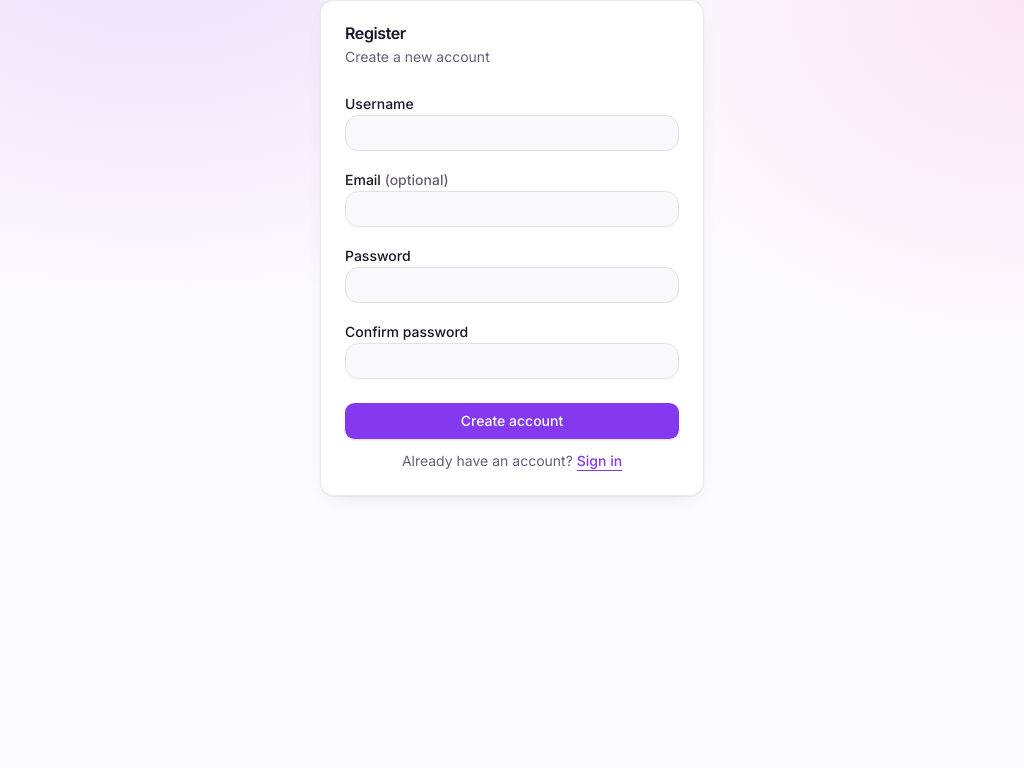
it: RegisterPage — the password rule › shows the server's plain text for a taken username
In the field labelled "Username": (512, 133) [345,115,679,151], type "alice"
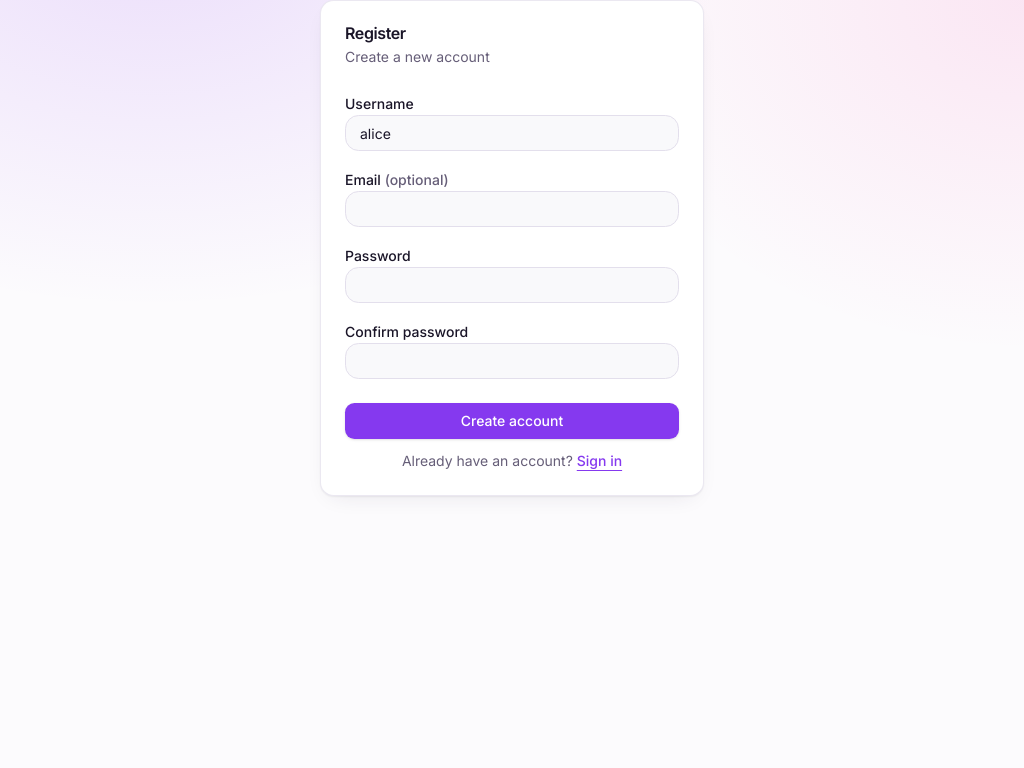
In the password field labelled "Password": (512, 285) [345,267,679,303], type "long-enough"
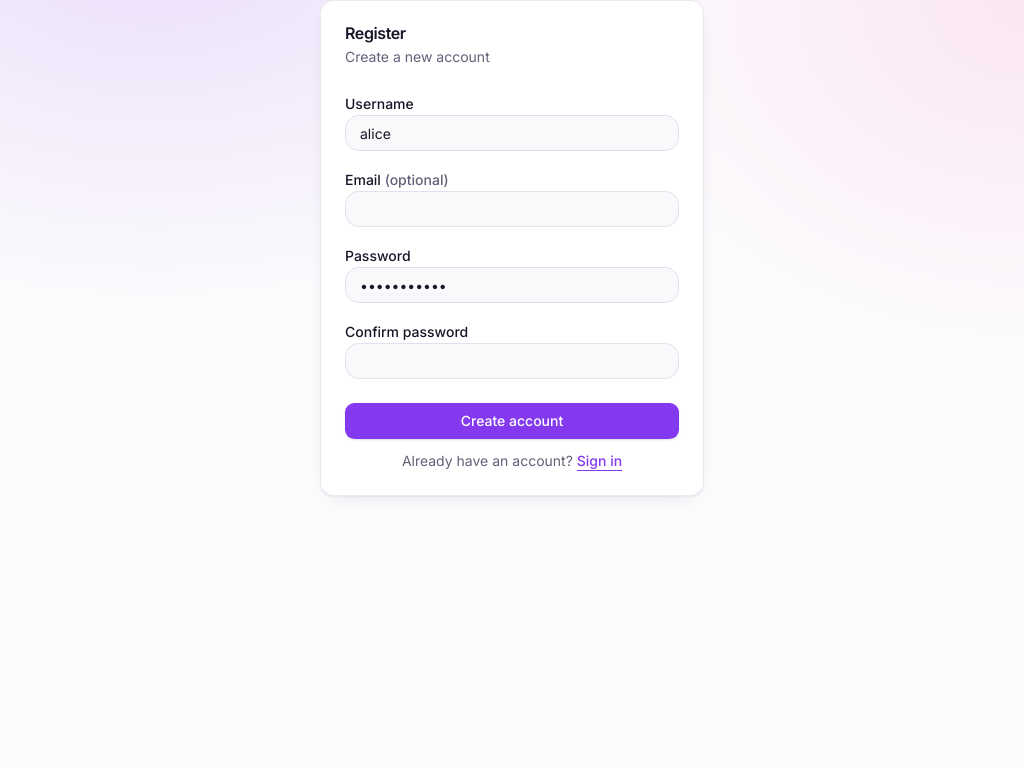
In the password field labelled "Confirm password": (512, 361) [345,343,679,379], type "long-enough"
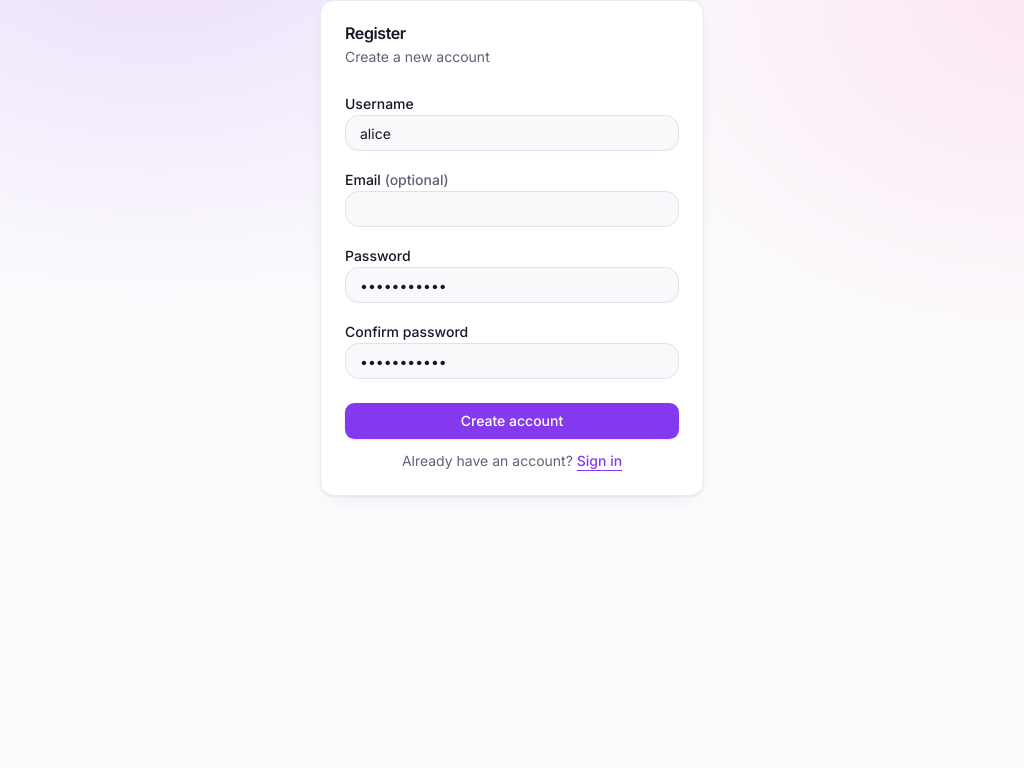
Click the button "Create account": (512, 421) [345,403,679,439]
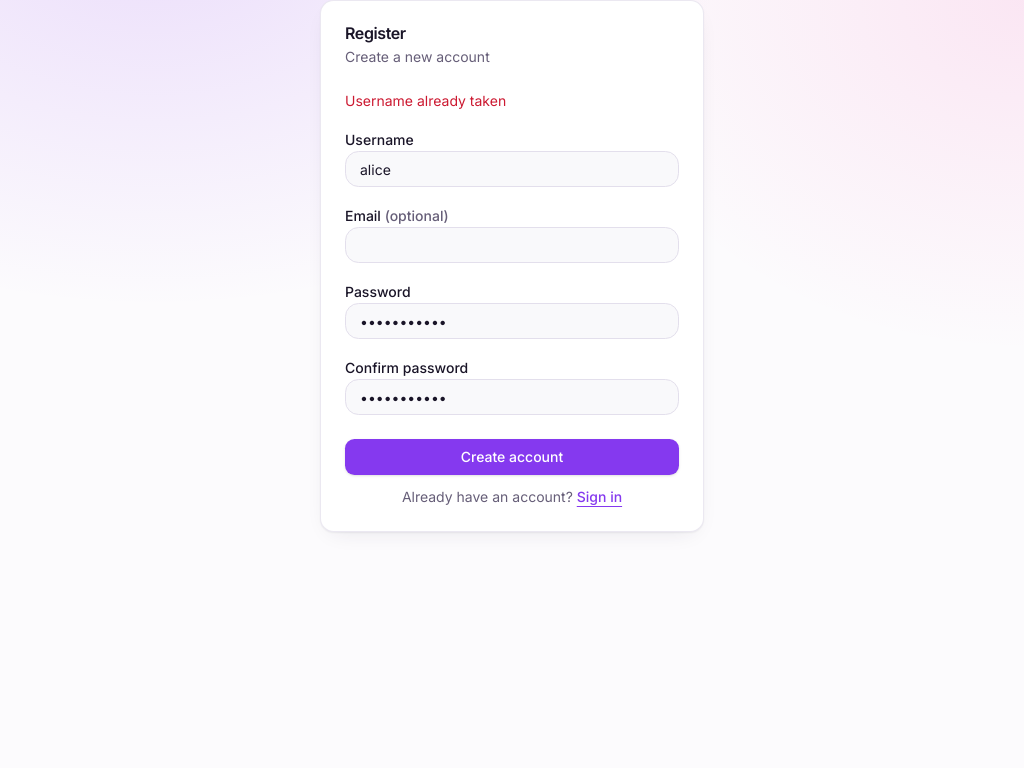
Result: the text "Username already taken" is shown at [345,92,506,109]
